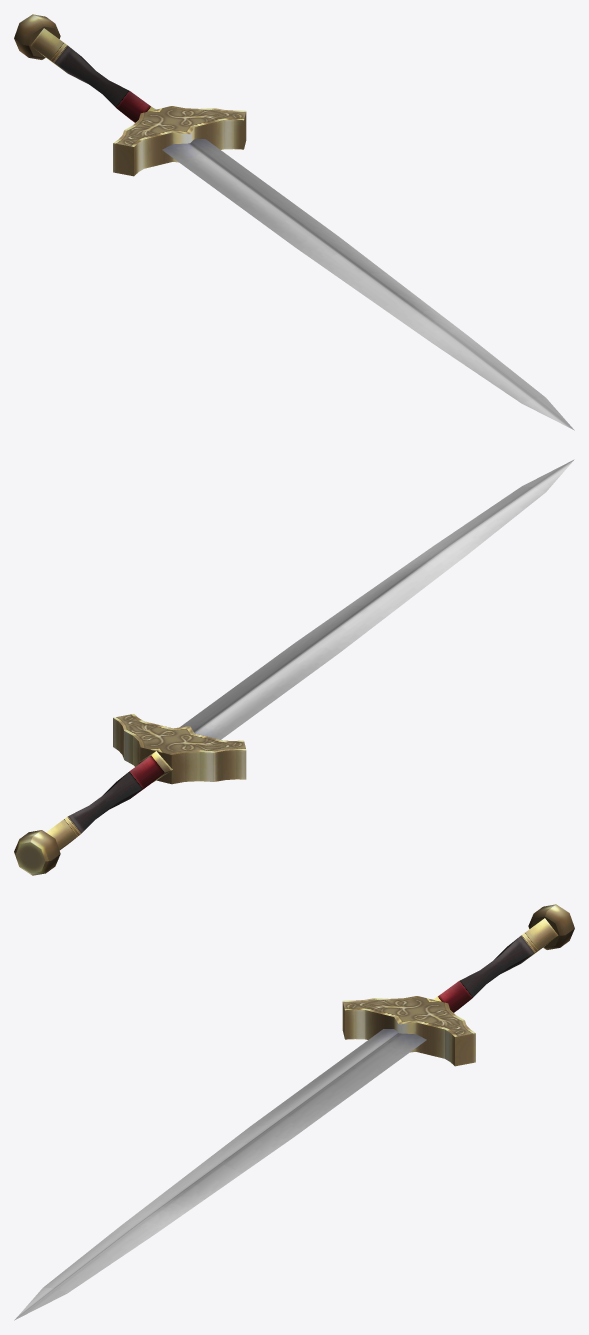
The model's file is sword5027.fbx.
The picture shows the model from 3 angles, top to bottom: view 1: azimuth 30°, elevation 25°; view 2: azimuth 150°, elevation 25°; view 3: azimuth 330°, elevation 25°; orthographic projection.
Visible parts, largest first — view 1: sword0125; view 2: sword0125; view 3: sword0125.
Boxes of the visible parts, x1=… form: sword0125: x1=14, y1=14, x2=574, y2=430; sword0125: x1=14, y1=459, x2=574, y2=875; sword0125: x1=14, y1=904, x2=574, y2=1320.
Bounding box in the file's own units: 0.1587 × 0.0443 × 1.12.
Materials: 1 (1 with a texture image).
